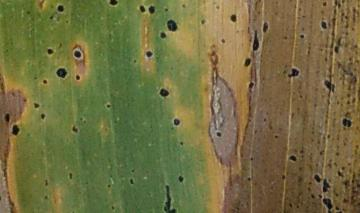tarspot: (160, 183, 177, 213), (249, 28, 262, 52), (323, 77, 337, 94), (286, 66, 302, 80), (54, 66, 69, 80), (70, 47, 85, 61), (165, 17, 179, 32), (321, 177, 332, 194), (9, 124, 23, 137), (341, 115, 354, 129), (322, 196, 335, 209), (144, 49, 156, 60), (242, 57, 253, 69), (318, 18, 328, 31), (261, 20, 270, 34), (288, 153, 299, 164), (147, 4, 157, 16), (313, 172, 323, 184), (3, 111, 12, 124), (38, 112, 49, 122), (158, 87, 169, 97), (172, 117, 182, 128), (228, 13, 239, 23), (336, 170, 347, 180), (103, 100, 113, 110), (247, 80, 257, 90), (138, 4, 147, 15), (46, 47, 55, 57), (57, 4, 66, 14), (71, 125, 80, 135), (214, 129, 224, 138), (127, 177, 136, 187), (43, 177, 51, 188), (158, 31, 167, 40), (32, 102, 42, 110), (177, 174, 185, 184), (220, 37, 228, 46), (333, 44, 340, 54), (108, 1, 119, 7), (299, 32, 307, 40), (309, 193, 317, 201), (162, 6, 171, 13), (25, 9, 34, 16), (41, 78, 49, 85), (75, 73, 82, 81), (42, 194, 50, 201), (245, 175, 253, 182), (200, 18, 207, 26), (280, 173, 287, 181), (273, 134, 281, 141), (321, 1, 328, 9), (68, 171, 74, 180), (132, 58, 139, 65), (179, 140, 186, 147), (248, 156, 255, 163), (105, 183, 113, 189), (48, 15, 55, 21), (109, 205, 116, 211), (21, 98, 28, 103)
